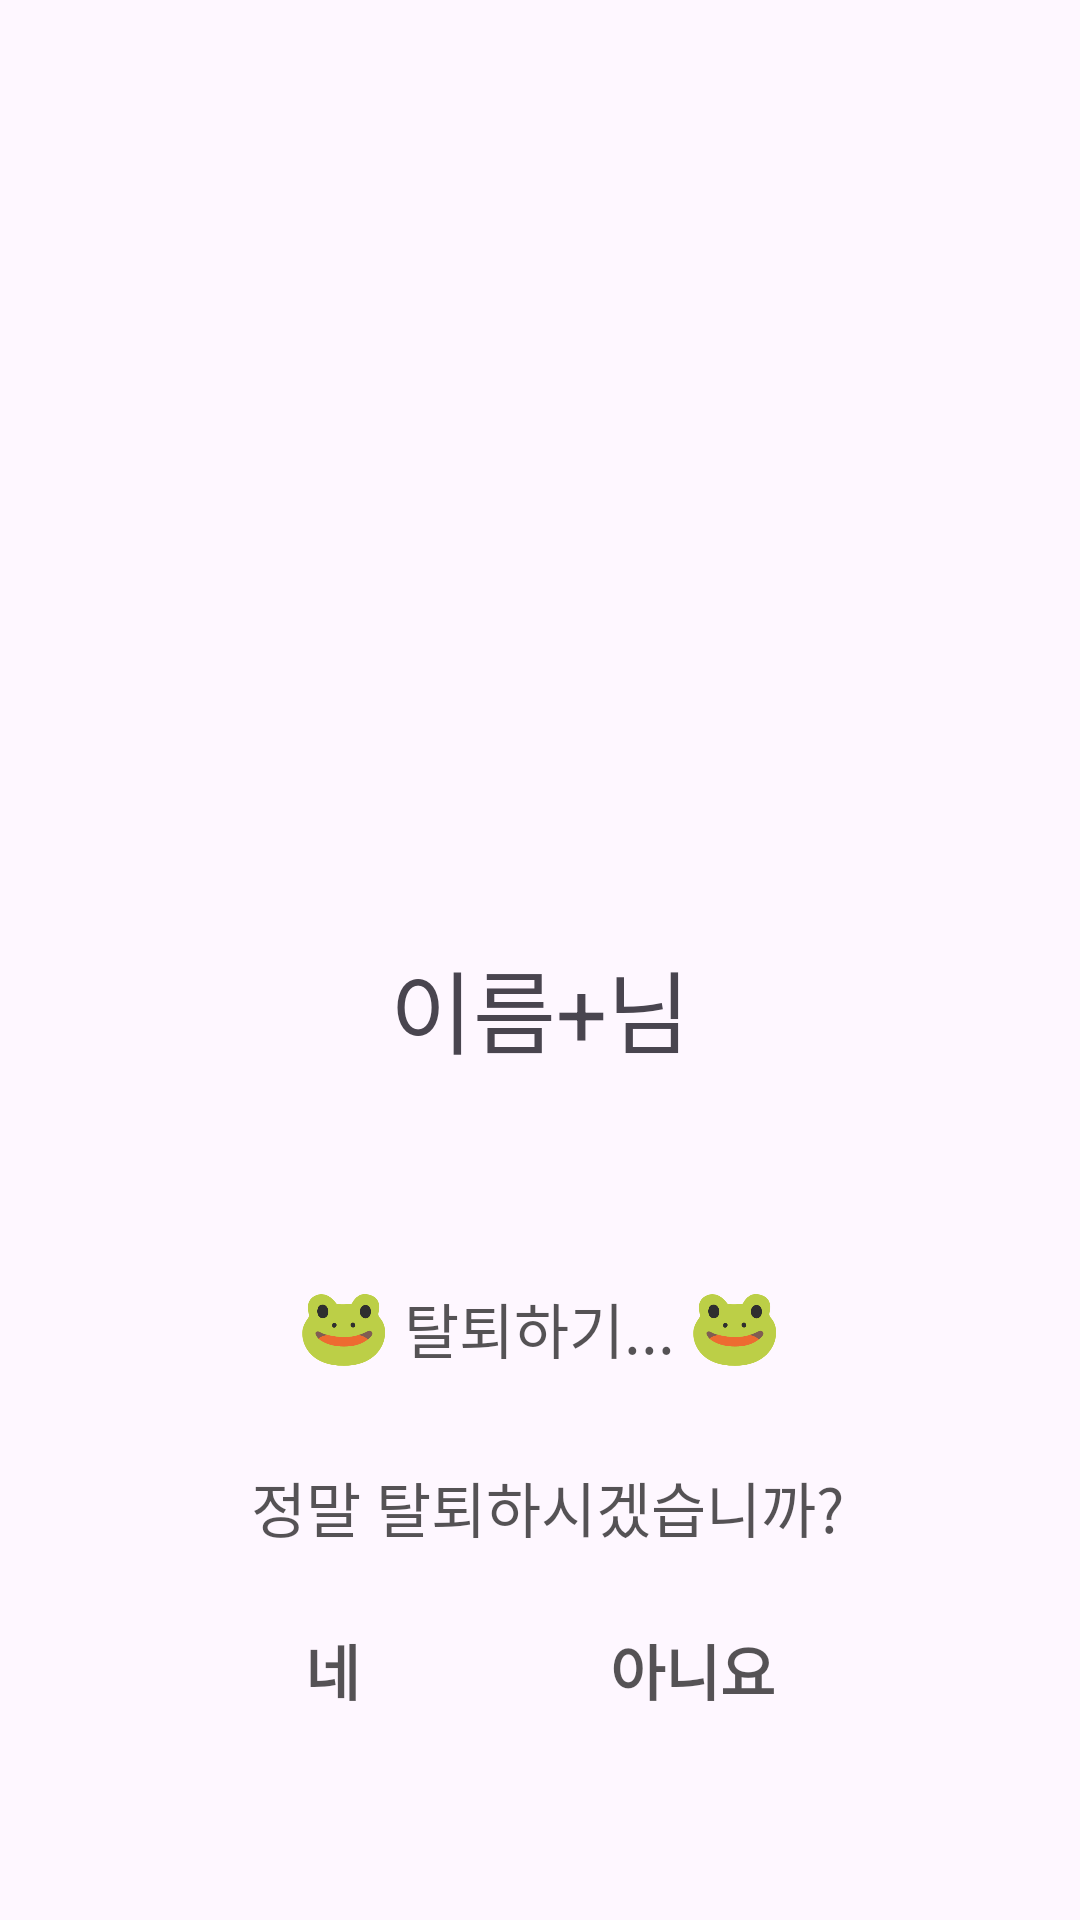

Icon click points for this 1080w x 1920h phone screenshot, format [x,y]:
cutefrogicon: [343,1330], [734,1330]
